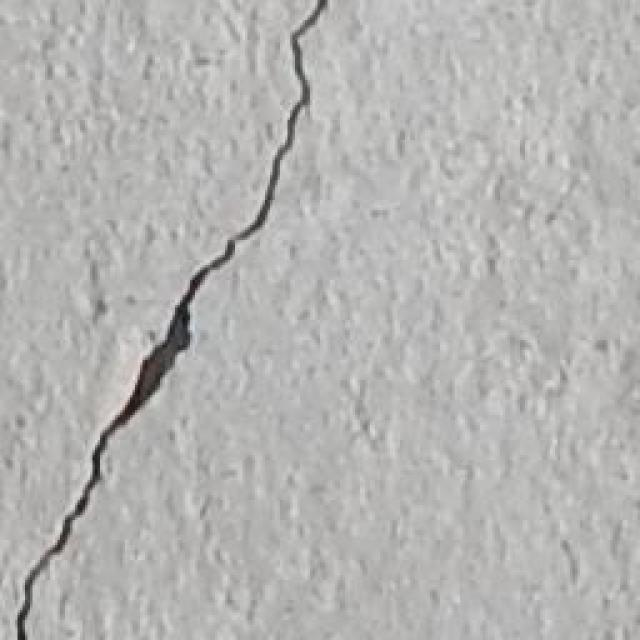concrete-crack: (11, 0, 329, 640)
